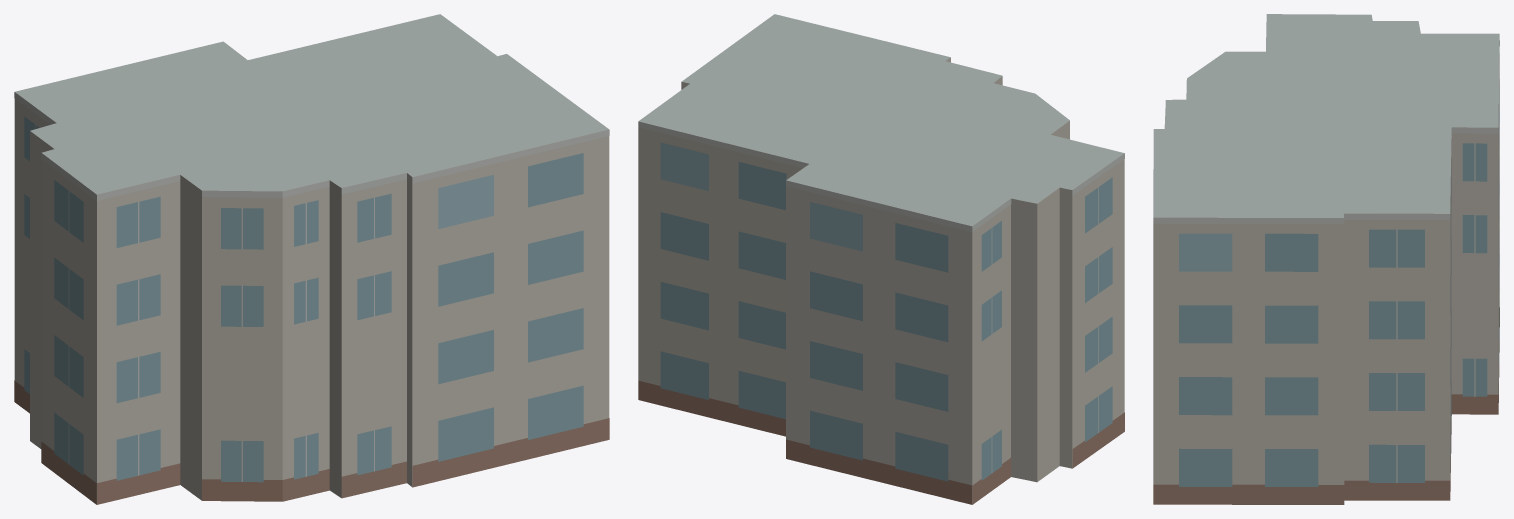
File: survey-upis-32524695.glb
The picture shows the model from 3 angles, left to right: view 1: azimuth 30°, elevation 25°; view 2: azimuth 150°, elevation 25°; view 3: azimuth 270°, elevation 25°; orthographic projection. The views are drawn at different scales.
Parts seen in each view (by area): view 1: survey-upis-32524695.tmp; view 2: survey-upis-32524695.tmp; view 3: survey-upis-32524695.tmp.
Part boxes in pixels (bbox=[...]): survey-upis-32524695.tmp: bbox=[14, 14, 609, 504]; survey-upis-32524695.tmp: bbox=[638, 14, 1124, 504]; survey-upis-32524695.tmp: bbox=[1153, 14, 1499, 504].
Bounding box in the file's own units: 18 × 11.8 × 12.93.
